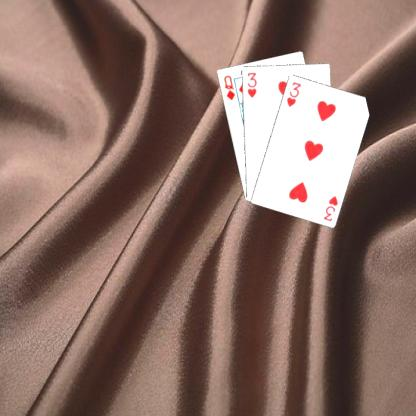3H: (284, 79, 302, 108), (321, 193, 339, 222), (244, 70, 258, 99)
QD: (221, 73, 236, 101)
